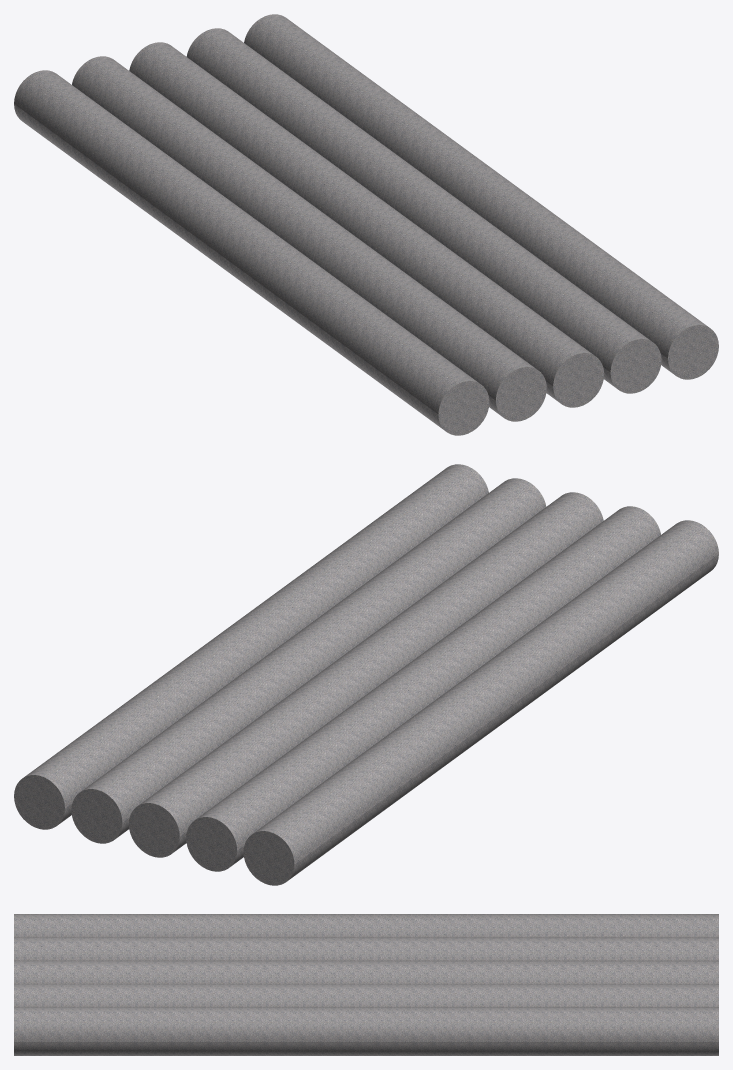
The picture shows the model from 3 angles, top to bottom: view 1: azimuth 30°, elevation 25°; view 2: azimuth 150°, elevation 25°; view 3: azimuth 270°, elevation 25°; orthographic projection. The views are drawn at different scales.
Parts seen in each view (by area): view 1: 0_1_3_3_0_3_2_0; view 2: 0_1_3_3_0_3_2_0; view 3: 0_1_3_3_0_3_2_0.
Part boxes in pixels (<box>): 0_1_3_3_0_3_2_0: <box>14,14,718,435</box>; 0_1_3_3_0_3_2_0: <box>14,464,718,885</box>; 0_1_3_3_0_3_2_0: <box>14,914,718,1055</box>.
Bounding box in the file's own units: 4.4 × 0.8 × 11.53.
Materials: 5 (5 with a texture image).
